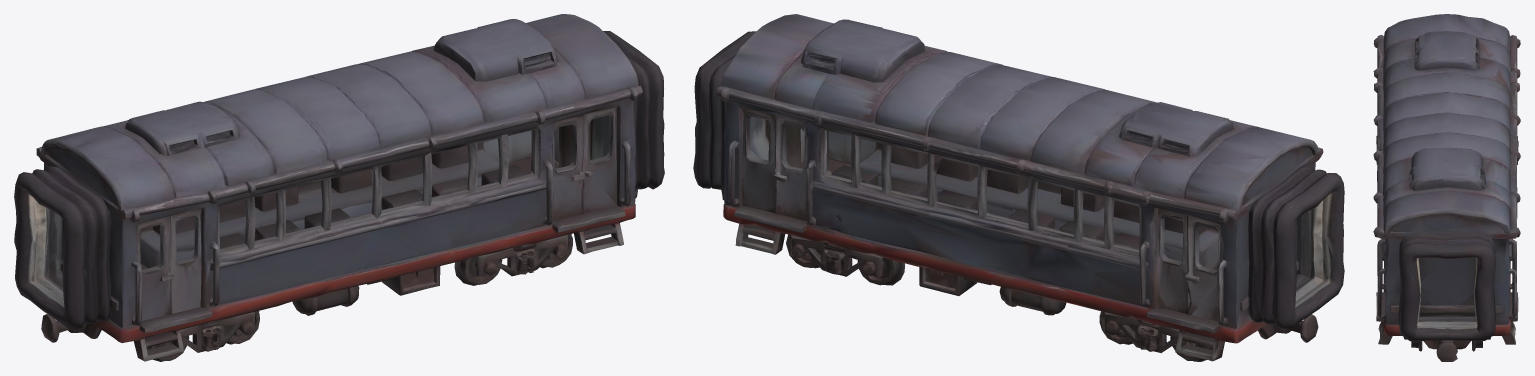
File: train_coach_c.glb
3 views of the same model, side by side, from view 1: azimuth 30°, elevation 25°; view 2: azimuth 150°, elevation 25°; view 3: azimuth 270°, elevation 25° (orthographic). The views are drawn at different scales.
Visible parts, largest first — view 1: body, wheel_5; view 2: body, wheel_6; view 3: body.
Part boxes in pixels (x1,y1,x2,y2): body: (14,14,664,361); wheel_5: (454,257,502,285); body: (693,14,1344,361); wheel_6: (857,257,904,285); body: (1373,14,1520,361).
Bounding box in the file's own units: 8 × 2.87 × 2.18.
Materials: 2 (2 with a texture image).
